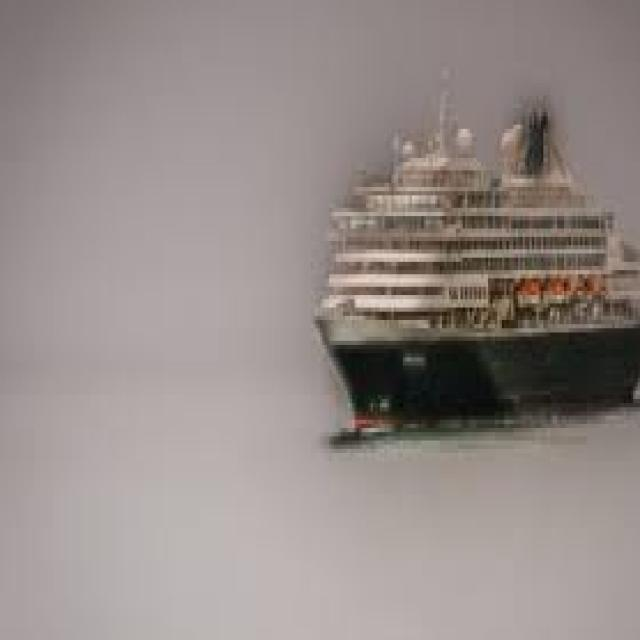passenger ship: (313, 95, 640, 424)
